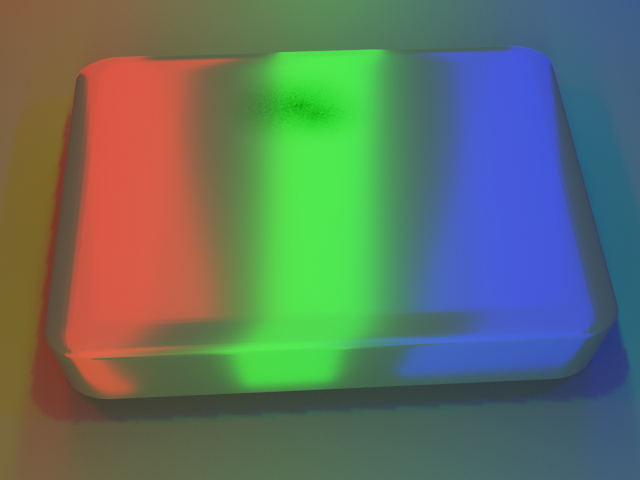stain: (202, 40, 424, 160)
